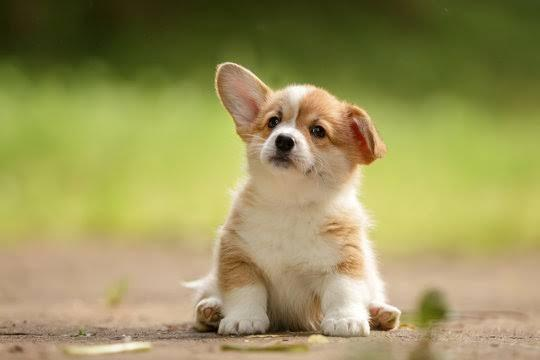puppy-dog: (185, 58, 404, 337)
